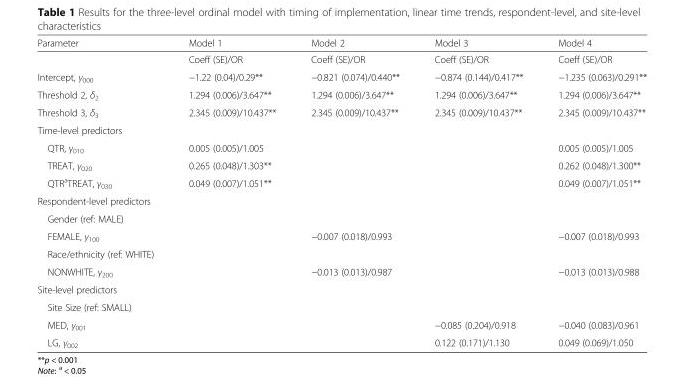table: (36, 36, 646, 348)
table column: (36, 36, 170, 348), (292, 36, 416, 348), (416, 36, 539, 348), (170, 36, 292, 348), (539, 36, 646, 348)
table column header: (36, 36, 646, 50)
table projected row header: (36, 297, 646, 315), (36, 121, 646, 138), (36, 192, 646, 209), (36, 209, 646, 226), (36, 245, 646, 262), (36, 280, 646, 297)
table row: (36, 173, 646, 192), (36, 226, 646, 245), (36, 67, 646, 85), (36, 85, 646, 103), (36, 103, 646, 121), (36, 138, 646, 156), (36, 262, 646, 280), (36, 297, 646, 315), (36, 315, 646, 333), (36, 50, 646, 67), (36, 121, 646, 138), (36, 156, 646, 173), (36, 192, 646, 209), (36, 209, 646, 226), (36, 245, 646, 262), (36, 280, 646, 297), (36, 333, 646, 348), (36, 36, 646, 50)
